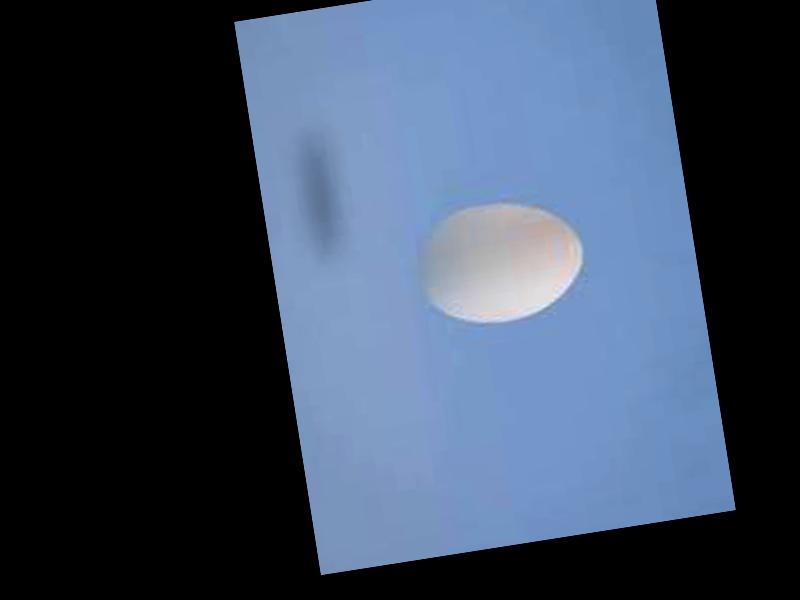Eggs: (408, 189, 592, 334)
